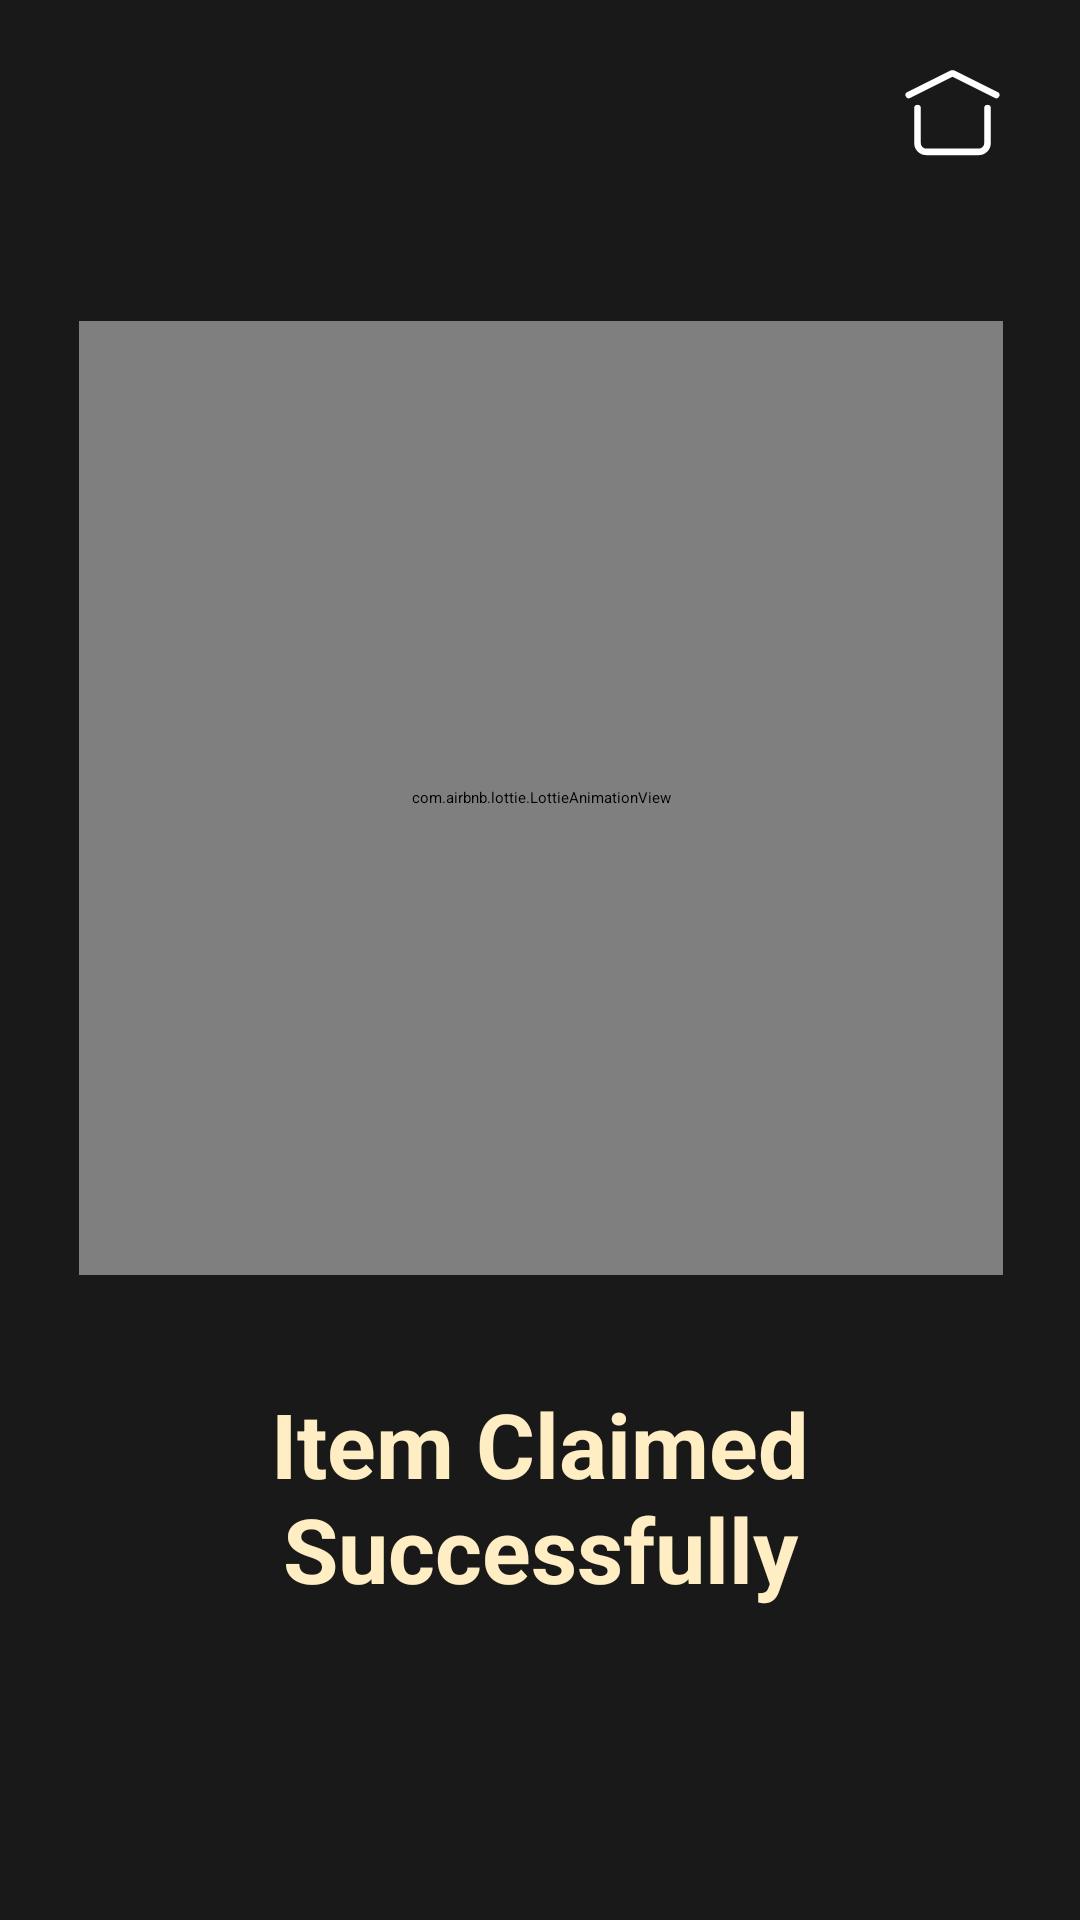

Where icons sit on this 1080px x 1920px app screen, as box(x1, y1, x2, y2):
home: box(905, 70, 1000, 156)
